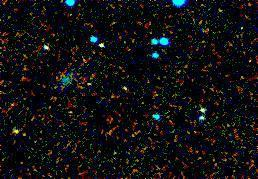star: (0, 109, 30, 139)
